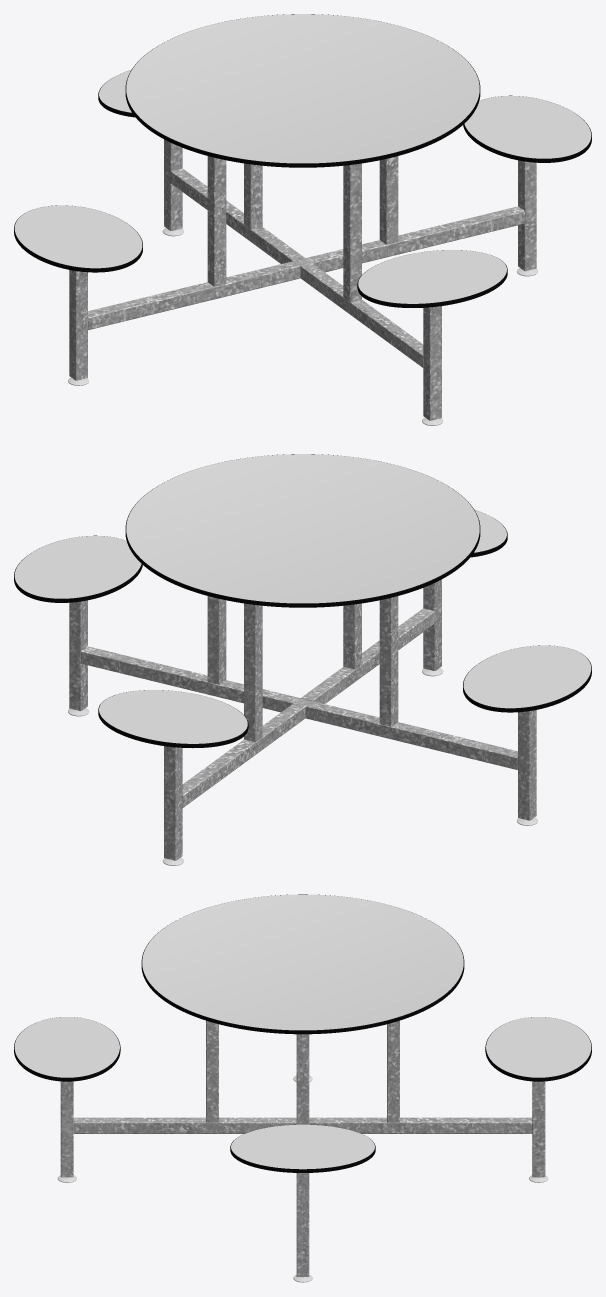
Rendered from kreis-team-small.glb.
3 views of the same model, one above another, from view 1: azimuth 30°, elevation 25°; view 2: azimuth 150°, elevation 25°; view 3: azimuth 270°, elevation 25° (orthographic). The views are drawn at different scales.
Visible parts, largest first — view 1: Tischplatte, Gestell, Sitzplatte, Extruded.036, Extruded.043, Extruded.037, Extruded.039; view 2: Tischplatte, Gestell, Sitzplatte, Extruded.036, Extruded.041, Extruded.037, Extruded.039; view 3: Tischplatte, Sitzplatte, Gestell, Extruded.036, Extruded.039, Extruded.041, Extruded.043.
Boxes of the visible parts, x1,y1,x2,y2 form: Tischplatte: (126, 14, 479, 163); Gestell: (69, 139, 536, 420); Sitzplatte: (14, 70, 591, 303); Extruded.036: (125, 14, 480, 167); Extruded.043: (357, 250, 507, 307); Extruded.037: (14, 205, 142, 272); Extruded.039: (463, 95, 591, 162); Tischplatte: (126, 454, 479, 603); Gestell: (69, 579, 536, 860); Sitzplatte: (14, 510, 591, 743); Extruded.036: (125, 454, 480, 607); Extruded.041: (98, 690, 248, 748); Extruded.037: (463, 645, 591, 712); Extruded.039: (14, 535, 142, 602); Tischplatte: (142, 894, 463, 1030); Sitzplatte: (14, 1017, 591, 1169); Gestell: (60, 1020, 545, 1276); Extruded.036: (141, 894, 464, 1034); Extruded.039: (230, 1124, 375, 1172); Extruded.041: (485, 1017, 591, 1081); Extruded.043: (14, 1017, 120, 1081).
Bounding box in the file's own units: 1.79 × 0.74 × 1.79.
3 materials, 1 textured.
